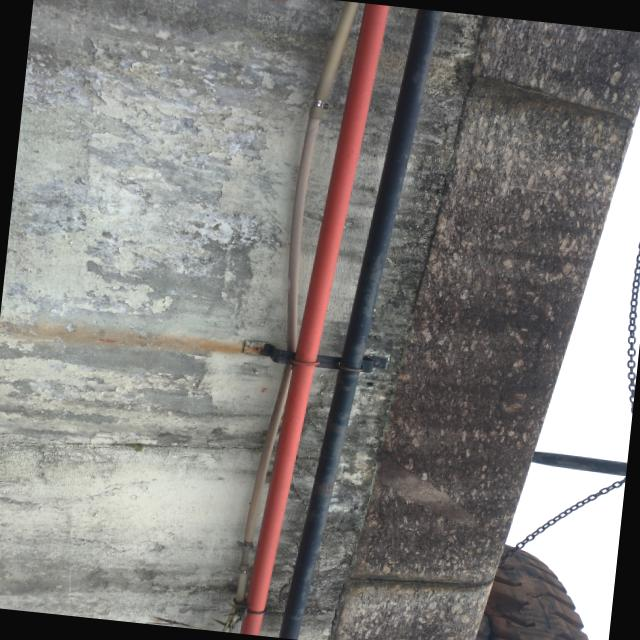gas: (276, 11, 440, 639), (241, 5, 390, 635)
